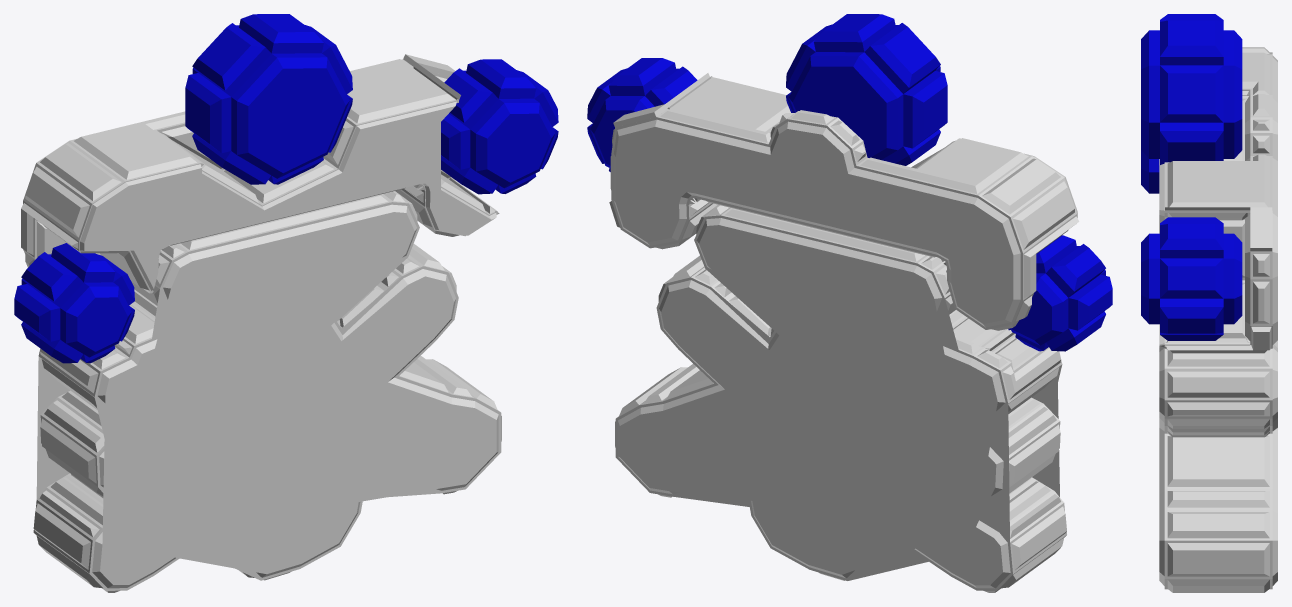
The model's file is Ch_China_家_01.fbx.
The picture shows the model from 3 angles, left to right: view 1: azimuth 30°, elevation 25°; view 2: azimuth 150°, elevation 25°; view 3: azimuth 270°, elevation 25°; orthographic projection. The views are drawn at different scales.
Visible parts, largest first — view 1: sphere1; view 2: sphere1; view 3: sphere1.
Boxes of the visible parts, x1=… form: sphere1: x1=14, y1=14, x2=558, y2=592; sphere1: x1=587, y1=14, x2=1112, y2=592; sphere1: x1=1141, y1=14, x2=1277, y2=592.
Bounding box in the file's own units: 1.07 × 1.08 × 0.2541.
